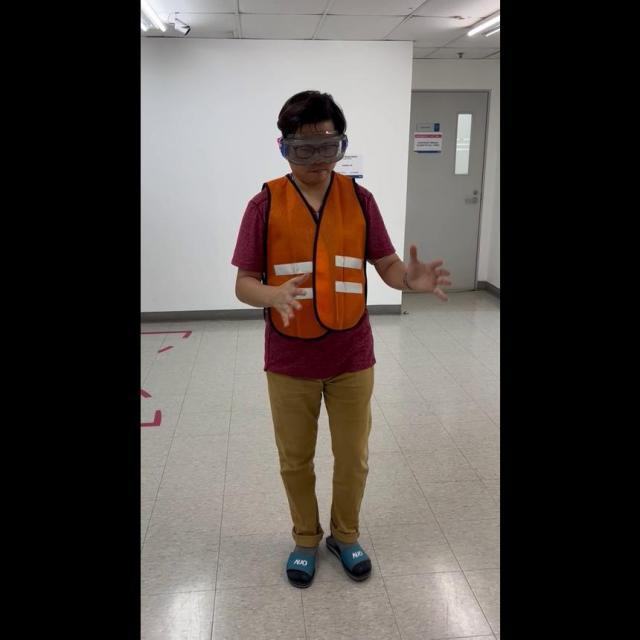bare_hand: (402, 239, 450, 301), (275, 268, 318, 327)
